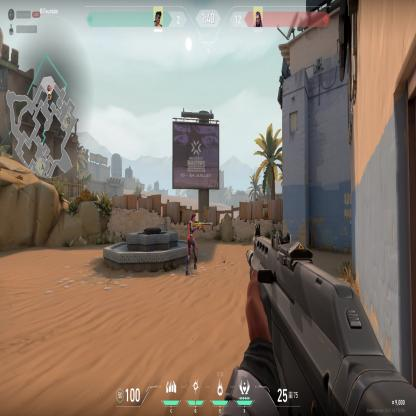enemy: (185, 211, 205, 276)
